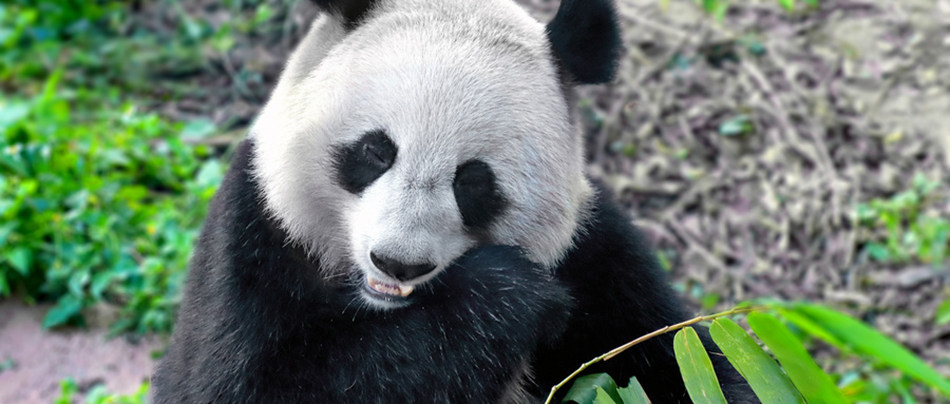panda: (188, 1, 719, 401)
